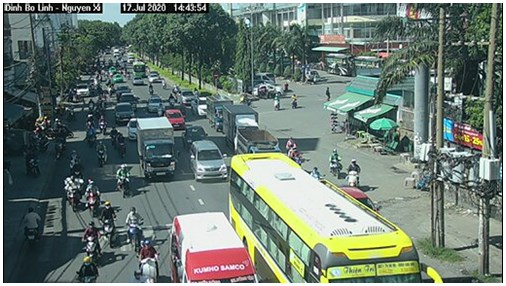di_bo: (323, 84, 331, 106)
xe_buyt: (229, 151, 443, 284), (132, 60, 150, 78)
xe_hoi: (191, 140, 227, 184), (163, 108, 187, 132), (112, 103, 138, 123), (192, 97, 211, 118), (119, 93, 139, 112), (178, 88, 196, 106), (145, 96, 164, 113)
xe_khach: (170, 213, 261, 284)
xe_may: (59, 169, 86, 211), (100, 198, 121, 250), (135, 241, 160, 282), (80, 219, 104, 261), (20, 203, 40, 246), (83, 177, 103, 217), (44, 116, 75, 140), (127, 204, 145, 244), (285, 133, 307, 165), (22, 147, 41, 180), (77, 256, 101, 282), (327, 143, 343, 181), (116, 130, 131, 162), (346, 155, 361, 187), (96, 137, 109, 171), (83, 113, 95, 142), (68, 146, 81, 171), (270, 92, 283, 112), (97, 112, 107, 135), (109, 123, 118, 148), (55, 134, 62, 160), (289, 91, 298, 110), (86, 94, 95, 112), (147, 83, 155, 95)
